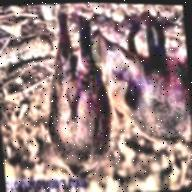boar: (23, 18, 120, 192), (92, 10, 191, 157)
